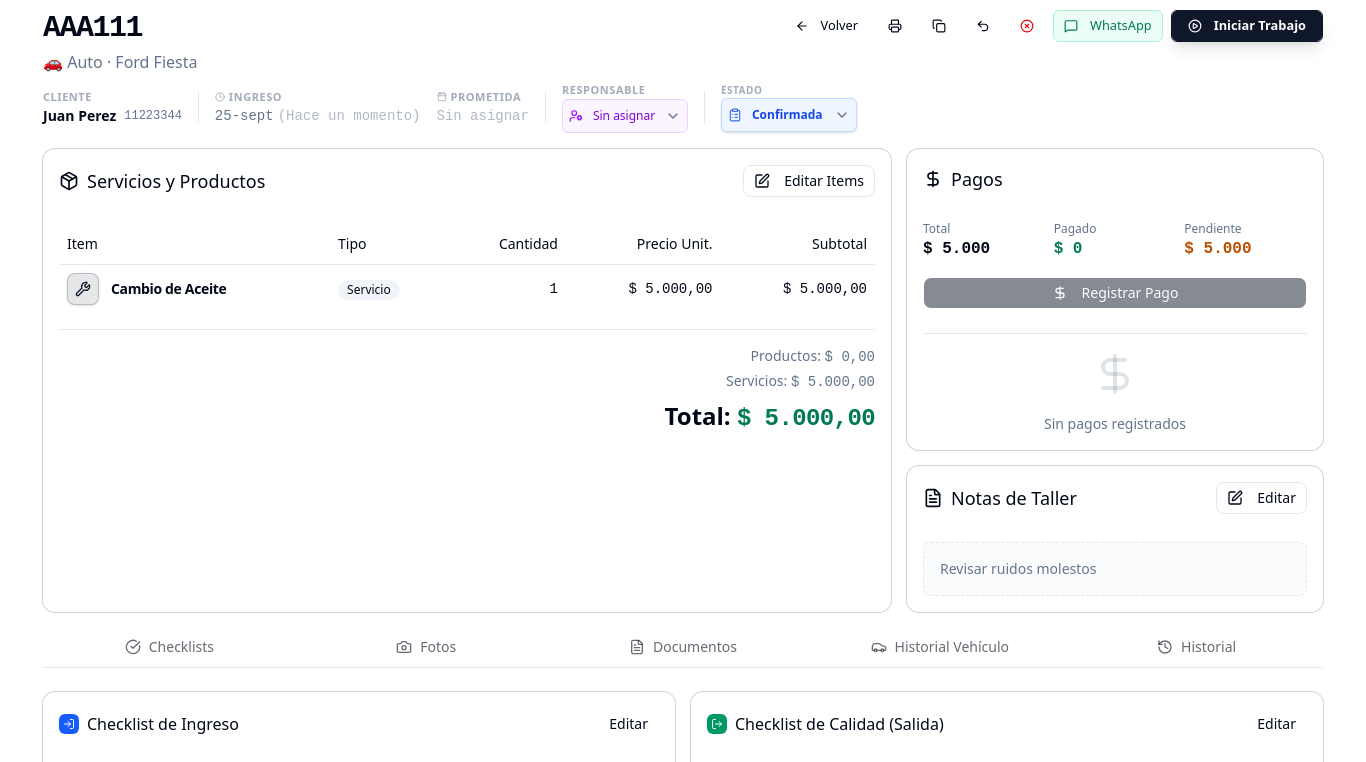
WorkOrderDetailPage - Checklist Progress and Custom Items › allows adding a custom checklist item and displays it in edit mode
This screenshot has width=1366, height=762.
// Click "Editar" on the Entry Checklist
Click the button with test id "edit-entry-checklist" at {"x": 629, "y": 724}, box [598, 708, 659, 740]
(page scrolled)
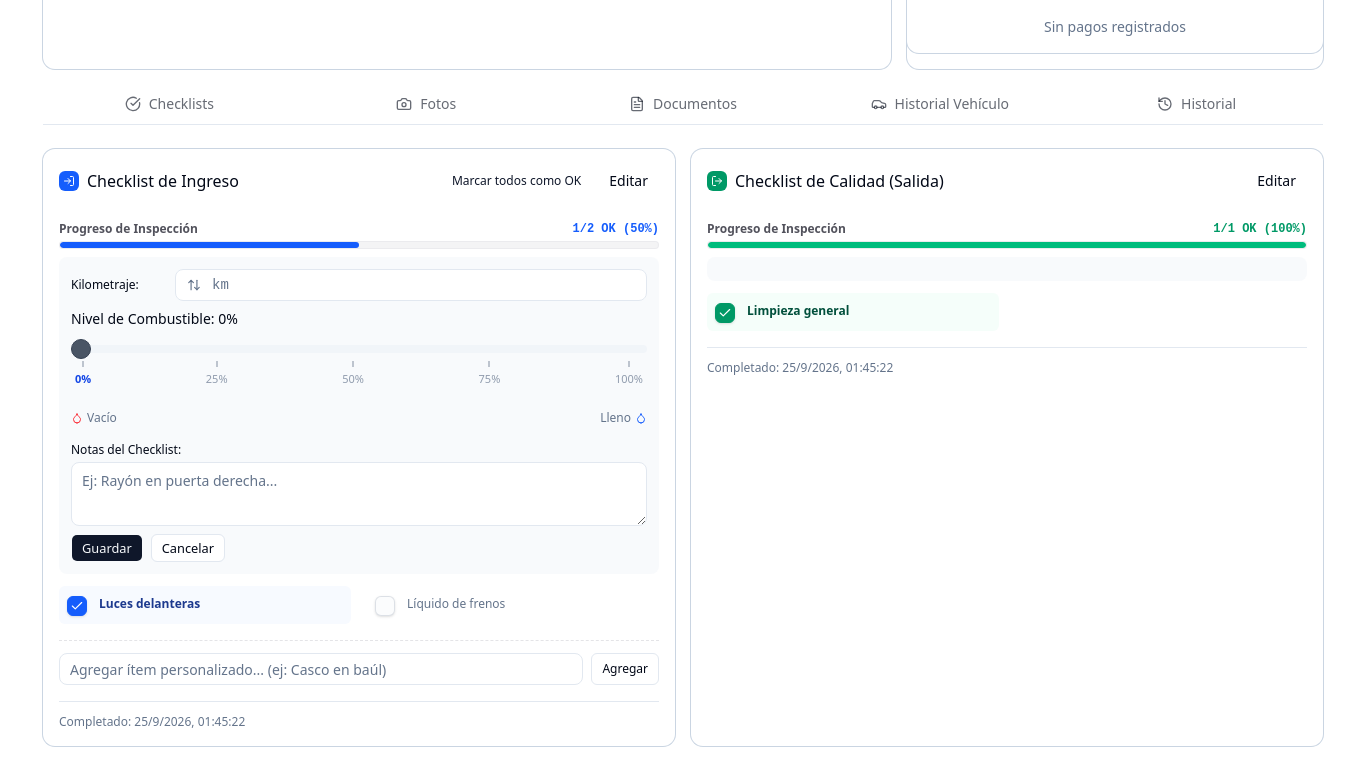
// Input text for custom item
Type "Llaves duplicadas" into the field with placeholder "Agregar ítem personalizado... (ej: Casco en baúl)" at {"x": 321, "y": 669}, box [59, 653, 583, 685]
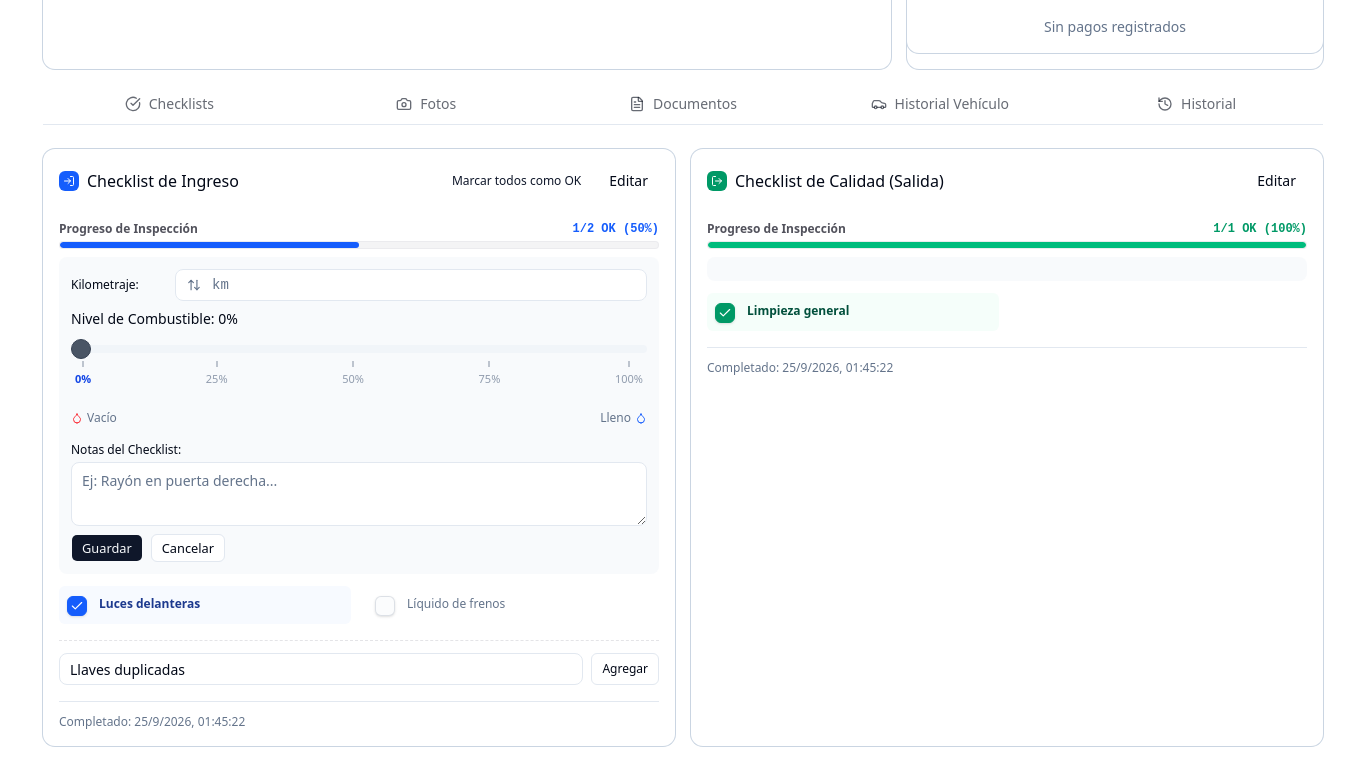
// Click "Agregar"
Click the button "Agregar" at {"x": 625, "y": 669}, box [591, 653, 659, 685]
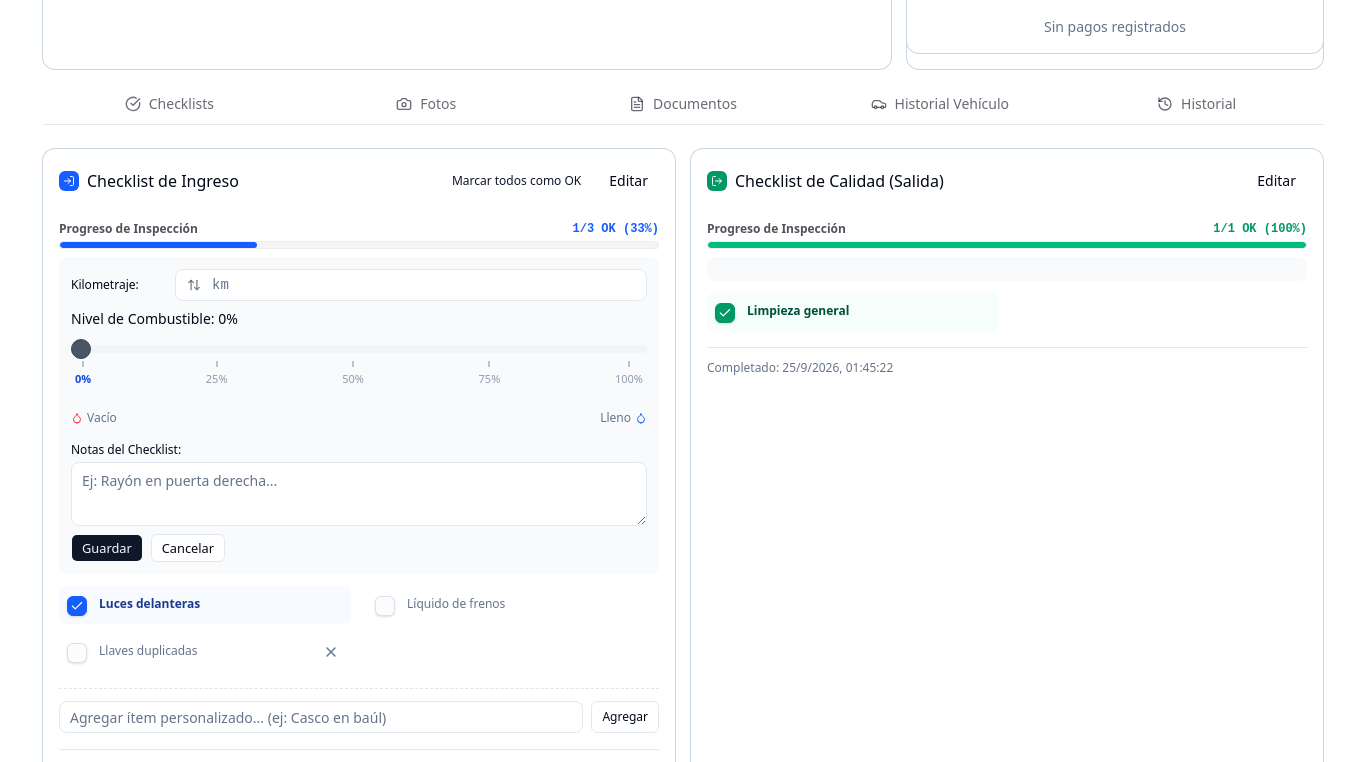
Check: the text "Llaves duplicadas" is shown, box [99, 641, 198, 657]
Check: the text "1/3 OK (33%)" is shown, box [573, 220, 659, 236]
